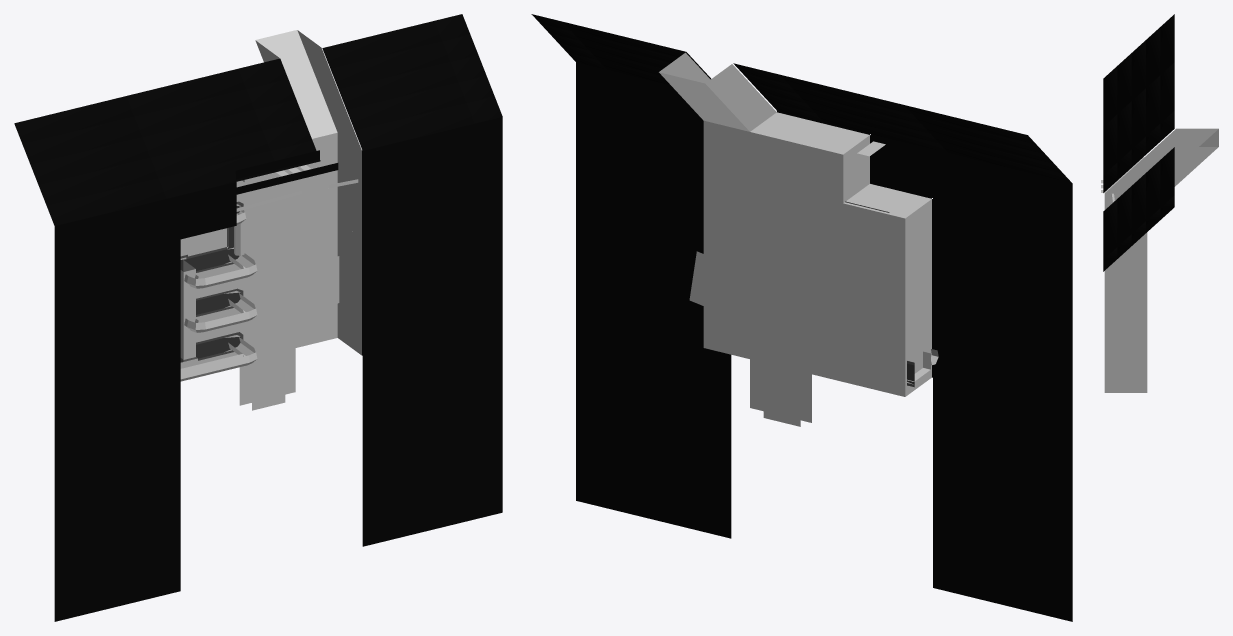
File: Sewer-Main_00_05.obj
The picture shows the model from 3 angles, left to right: view 1: azimuth 30°, elevation 25°; view 2: azimuth 150°, elevation 25°; view 3: azimuth 270°, elevation 25°; orthographic projection. The views are drawn at different scales.
Parts seen in each view (by area): view 1: map; view 2: map; view 3: map.
Boxes of the visible parts, x1,y1,x2,y2 form: map: (14, 14, 502, 621); map: (531, 14, 1072, 621); map: (1101, 14, 1218, 392).
Size of the model in its own units: 32 by 32 by 8.25.
